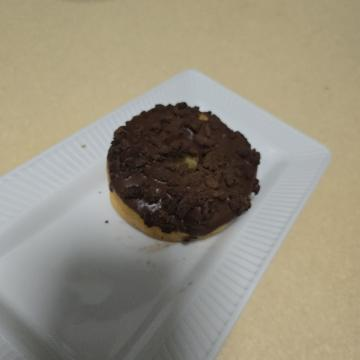doughnut: (85, 88, 260, 270)
